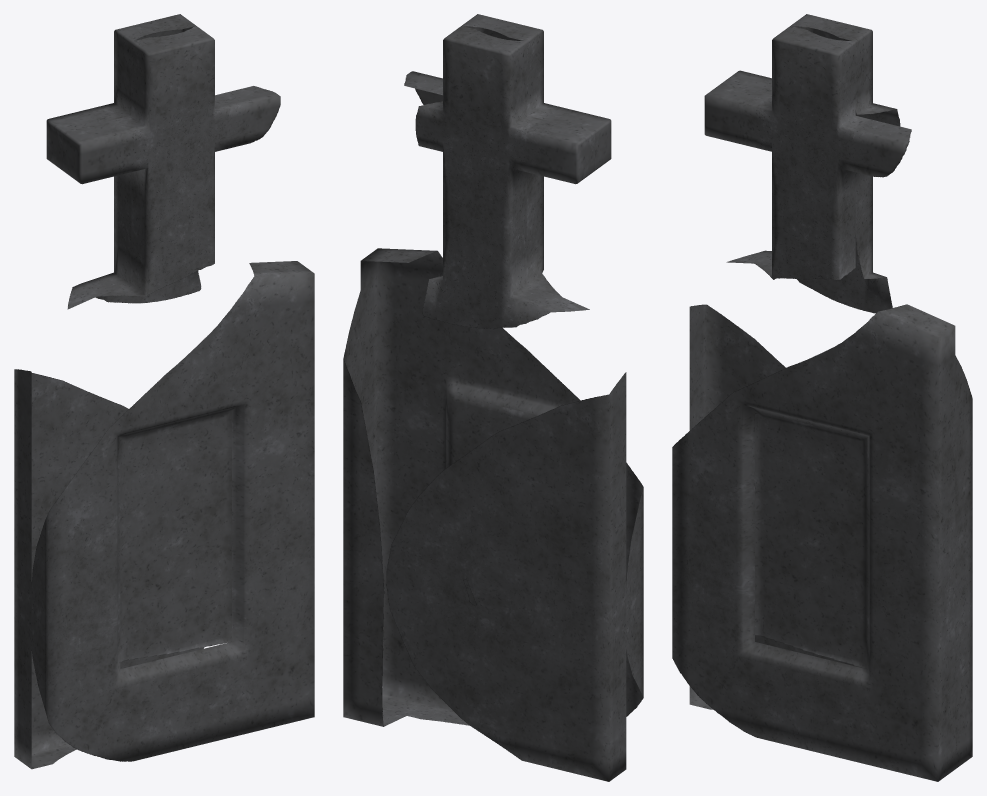
Rendered from stone_03.fbx.
3 views of the same model, side by side, from view 1: azimuth 30°, elevation 25°; view 2: azimuth 150°, elevation 25°; view 3: azimuth 330°, elevation 25° (orthographic).
Visible parts, largest first — view 1: stone_03; view 2: stone_03; view 3: stone_03.
Part boxes in pixels (x1,y1,x2,y2): stone_03: (14,14,314,769); stone_03: (343,14,643,781); stone_03: (672,14,972,781).
Bounding box in the file's own units: 71.85 × 182 × 16.1.
